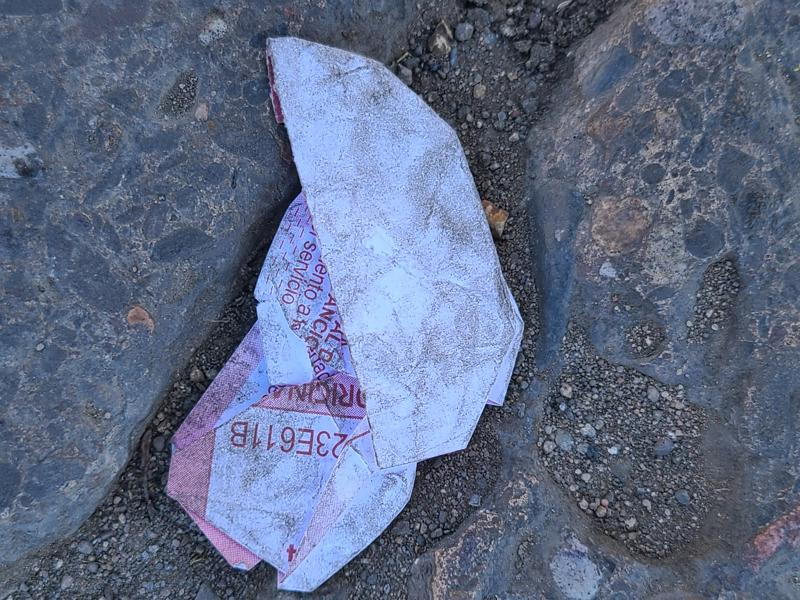papel: (164, 37, 524, 596)
